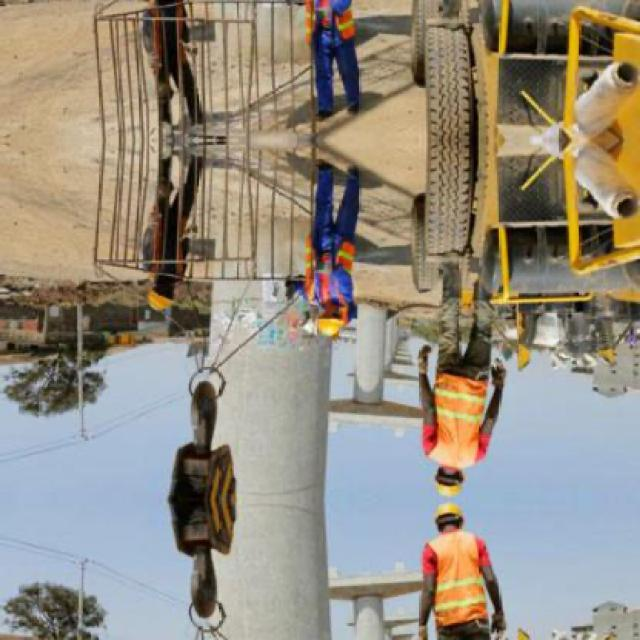con casco: (131, 250, 197, 322), (429, 430, 478, 501), (298, 288, 354, 336)
